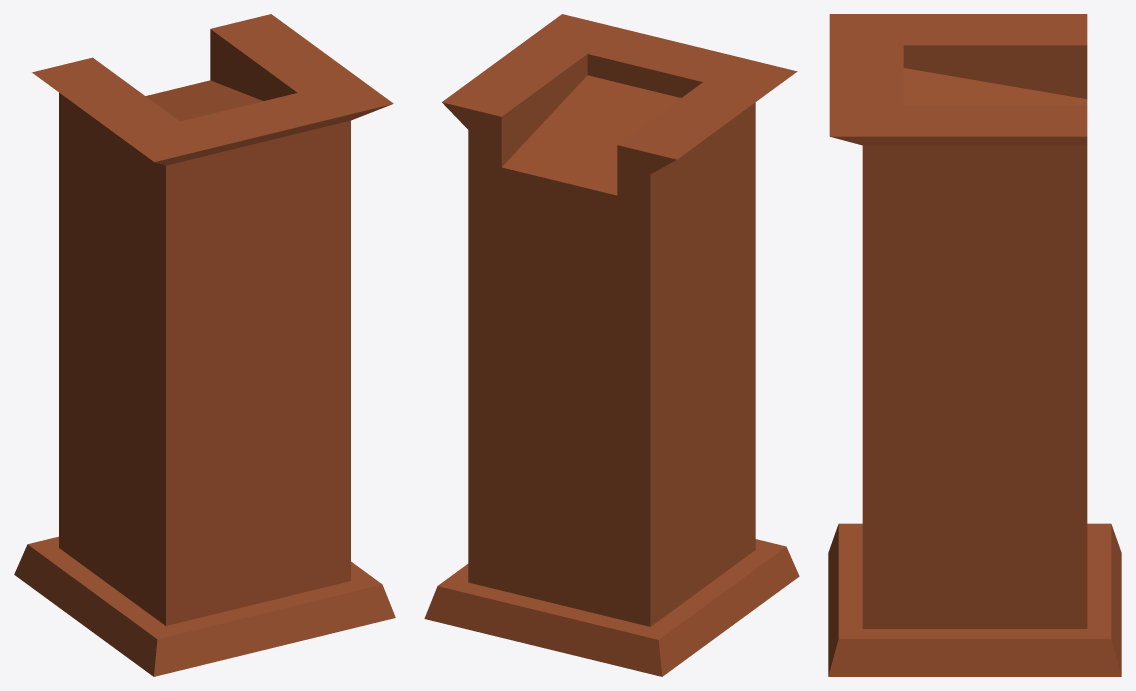
The model's file is Prop_Furniture_Fantasy_Church_Lectern_02.FBX.
3 renders of one model, left to right at view 1: azimuth 30°, elevation 25°; view 2: azimuth 150°, elevation 25°; view 3: azimuth 270°, elevation 25°, orthographic. The views are drawn at different scales.
Parts seen in each view (by area): view 1: Prop_Furniture_Fantasy_Church_Lectern_02; view 2: Prop_Furniture_Fantasy_Church_Lectern_02; view 3: Prop_Furniture_Fantasy_Church_Lectern_02.
Part boxes in pixels (x1,y1,x2,y2): Prop_Furniture_Fantasy_Church_Lectern_02: (14, 14, 395, 676); Prop_Furniture_Fantasy_Church_Lectern_02: (424, 14, 799, 676); Prop_Furniture_Fantasy_Church_Lectern_02: (828, 14, 1121, 676).
Bounding box in the file's own units: 588 × 1194 × 588.
